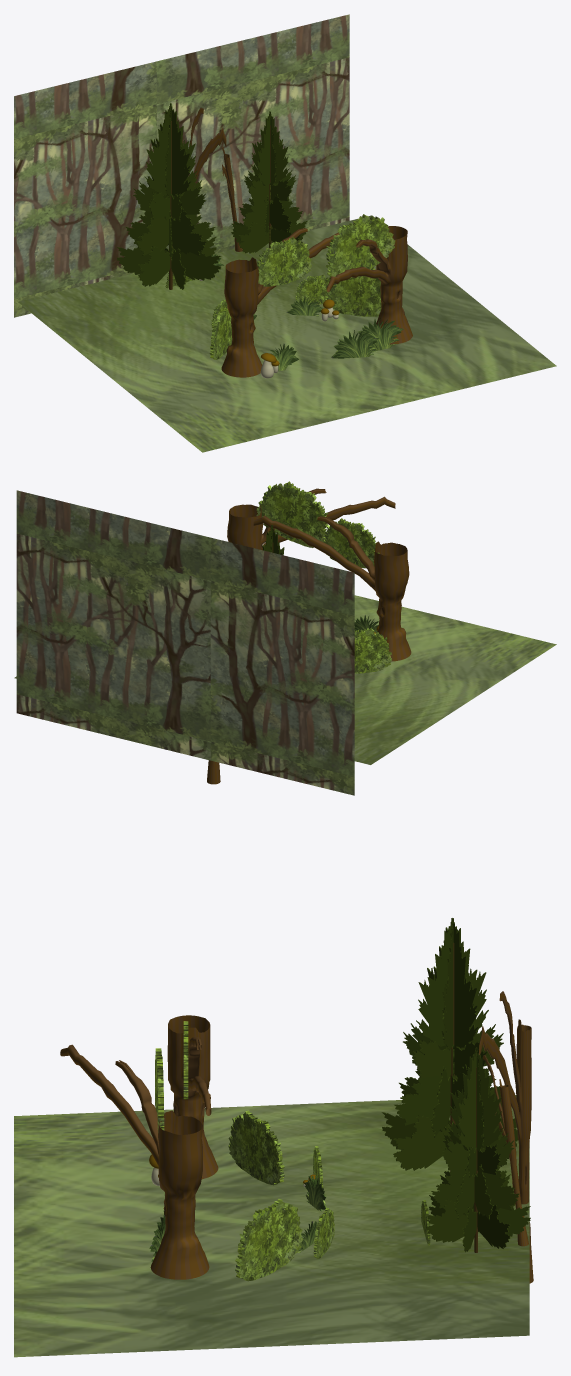
The model's file is scena.fbx.
3 views of the same model, one above another, from view 1: azimuth 30°, elevation 25°; view 2: azimuth 150°, elevation 25°; view 3: azimuth 270°, elevation 25° (orthographic). The views are drawn at different scales.
Parts seen in each view (by area): view 1: pozadina, Pod, bor1, bor2, Drvo1, Drvo2, granje1, granje2, grmić3, trava3, grmić1, grmić4 (+2 smaller); view 2: pozadina, Pod, Drvo1, granje1, Drvo2, grmić1, granje2; view 3: Pod, bor1, bor2, Drvo2, Drvo1, grmić3, drvo_pozadina1, grmić1, drvo_pozadina2, grmić4, granje1.
Part boxes in pixels (<box>): pozadina: <box>14,14,349,317</box>; Pod: <box>18,215,556,452</box>; bor1: <box>117,103,221,289</box>; bor2: <box>231,111,307,253</box>; Drvo1: <box>221,223,353,377</box>; Drvo2: <box>326,226,412,344</box>; granje1: <box>325,214,395,278</box>; granje2: <box>257,237,311,286</box>; grmić3: <box>325,267,381,316</box>; trava3: <box>331,330,379,358</box>; grmić1: <box>209,305,232,359</box>; grmić4: <box>295,274,330,304</box>; pozadina: <box>16,490,354,795</box>; Pod: <box>14,595,556,764</box>; Drvo1: <box>253,515,411,661</box>; granje1: <box>256,481,328,547</box>; Drvo2: <box>227,488,395,550</box>; grmić1: <box>354,627,391,673</box>; granje2: <box>322,518,379,568</box>; Pod: <box>14,1095,529,1357</box>; bor1: <box>381,918,518,1171</box>; bor2: <box>426,1047,530,1252</box>; Drvo2: <box>60,1044,209,1279</box>; Drvo1: <box>167,1015,218,1179</box>; grmić3: <box>235,1199,302,1281</box>; drvo_pozadina1: <box>479,991,533,1283</box>; grmić1: <box>228,1110,284,1185</box>; drvo_pozadina2: <box>483,1055,528,1246</box>; grmić4: <box>313,1207,334,1258</box>; granje1: <box>155,1048,164,1138</box>.
Size of the model in its own units: 7027 by 4794 by 6687.
